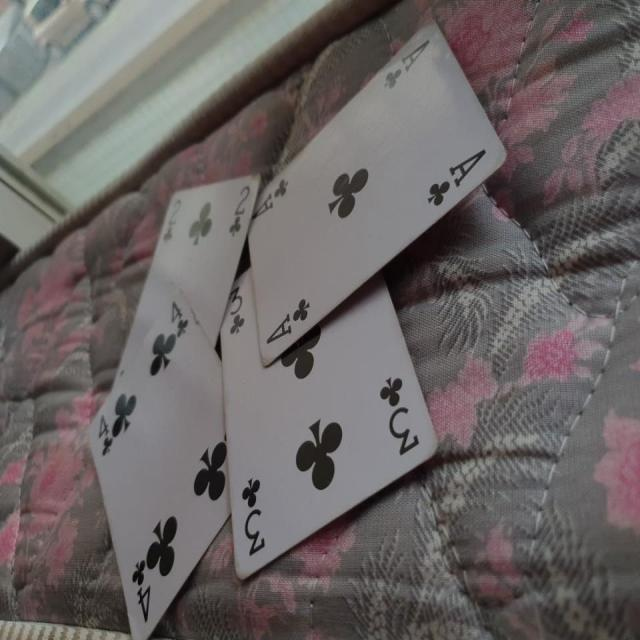2 Trefoils: (116, 174, 259, 385)
3 Trefoils: (220, 266, 441, 581)
4 Trefoils: (90, 288, 228, 640)
A Trefoils: (246, 17, 508, 366)
